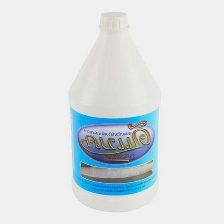cleaning_solution: (65, 10, 163, 213)
